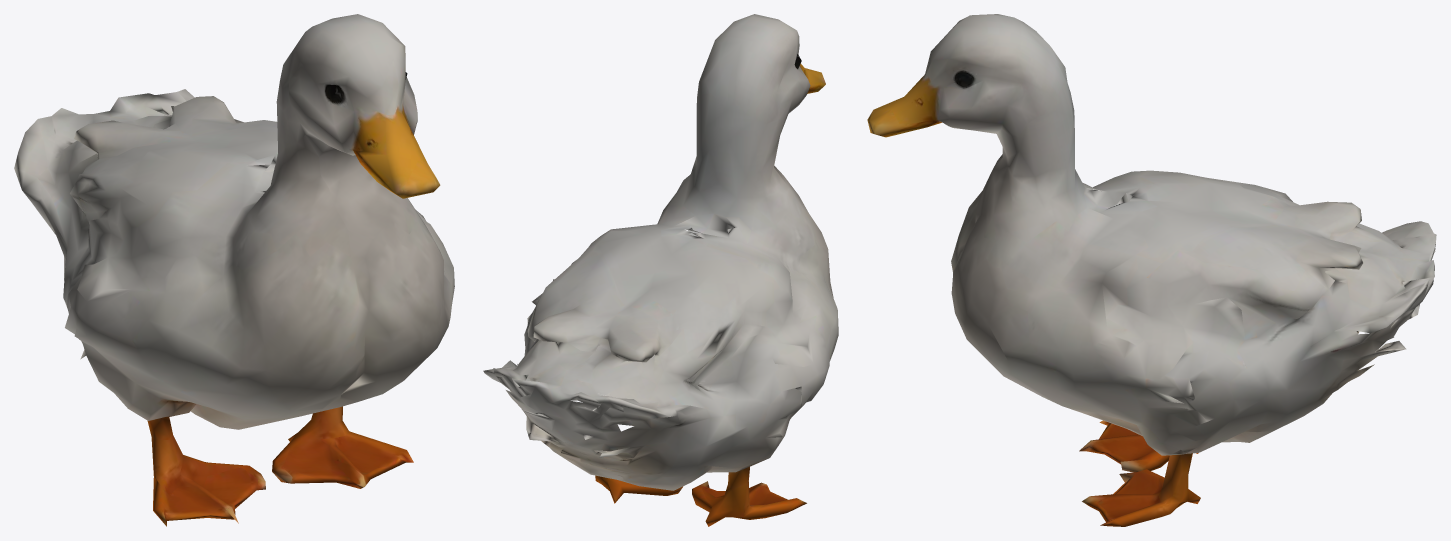
3 renders of one model, left to right at view 1: azimuth 30°, elevation 25°; view 2: azimuth 150°, elevation 25°; view 3: azimuth 270°, elevation 25°, orthographic. The views are drawn at different scales.
Parts seen in each view (by area): view 1: tripo_node_6afa17f3-6de3-4675-8e01-ff635f1fc5de; view 2: tripo_node_6afa17f3-6de3-4675-8e01-ff635f1fc5de; view 3: tripo_node_6afa17f3-6de3-4675-8e01-ff635f1fc5de.
Boxes of the visible parts, box(x1,y1,x2,y2) form: tripo_node_6afa17f3-6de3-4675-8e01-ff635f1fc5de: box(14, 14, 454, 526); tripo_node_6afa17f3-6de3-4675-8e01-ff635f1fc5de: box(483, 14, 838, 526); tripo_node_6afa17f3-6de3-4675-8e01-ff635f1fc5de: box(867, 14, 1436, 526).
Size of the model in its own units: 0.7042 by 1 by 1.12.
Materials: 1 (1 with a texture image).
